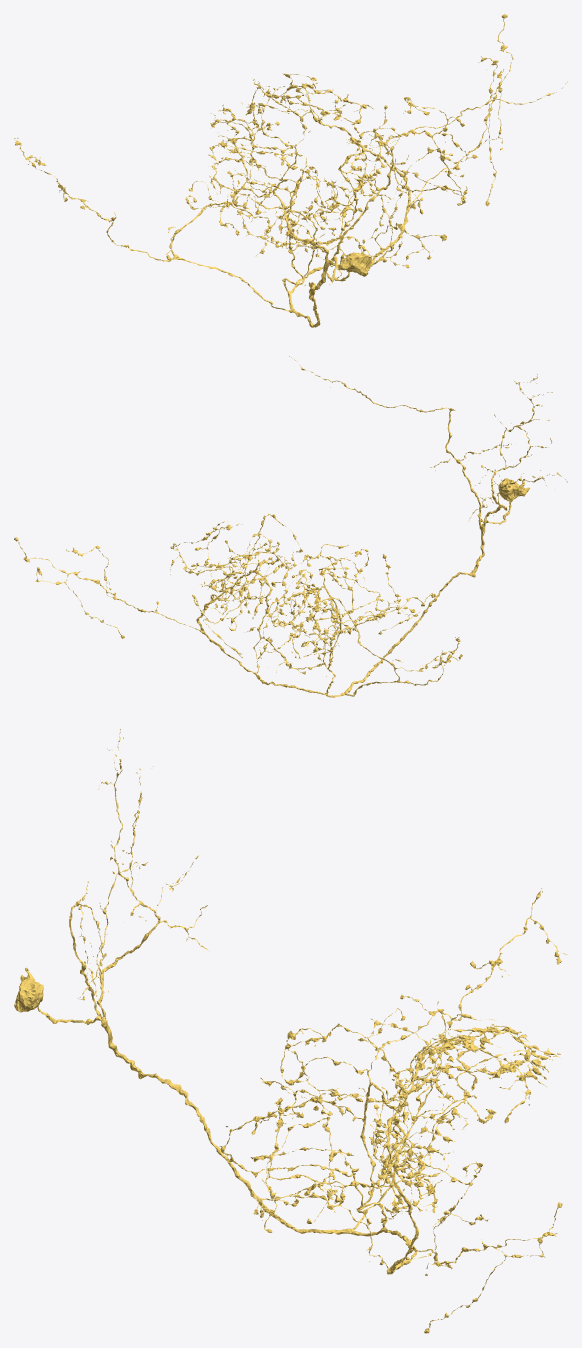
Rendered from VFB_fw000169.glb.
The picture shows the model from 3 angles, top to bottom: view 1: azimuth 30°, elevation 25°; view 2: azimuth 150°, elevation 25°; view 3: azimuth 270°, elevation 25°; orthographic projection. The views are drawn at different scales.
Parts seen in each view (by area): view 1: VFB_fw000169; view 2: VFB_fw000169; view 3: VFB_fw000169.
Boxes of the visible parts, x1=… form: VFB_fw000169: x1=14, y1=14, x2=567, y2=327; VFB_fw000169: x1=14, y1=356, x2=567, y2=697; VFB_fw000169: x1=14, y1=729, x2=567, y2=1333.
Size of the model in its own units: 0.1485 by 0.0943 by 0.111.
